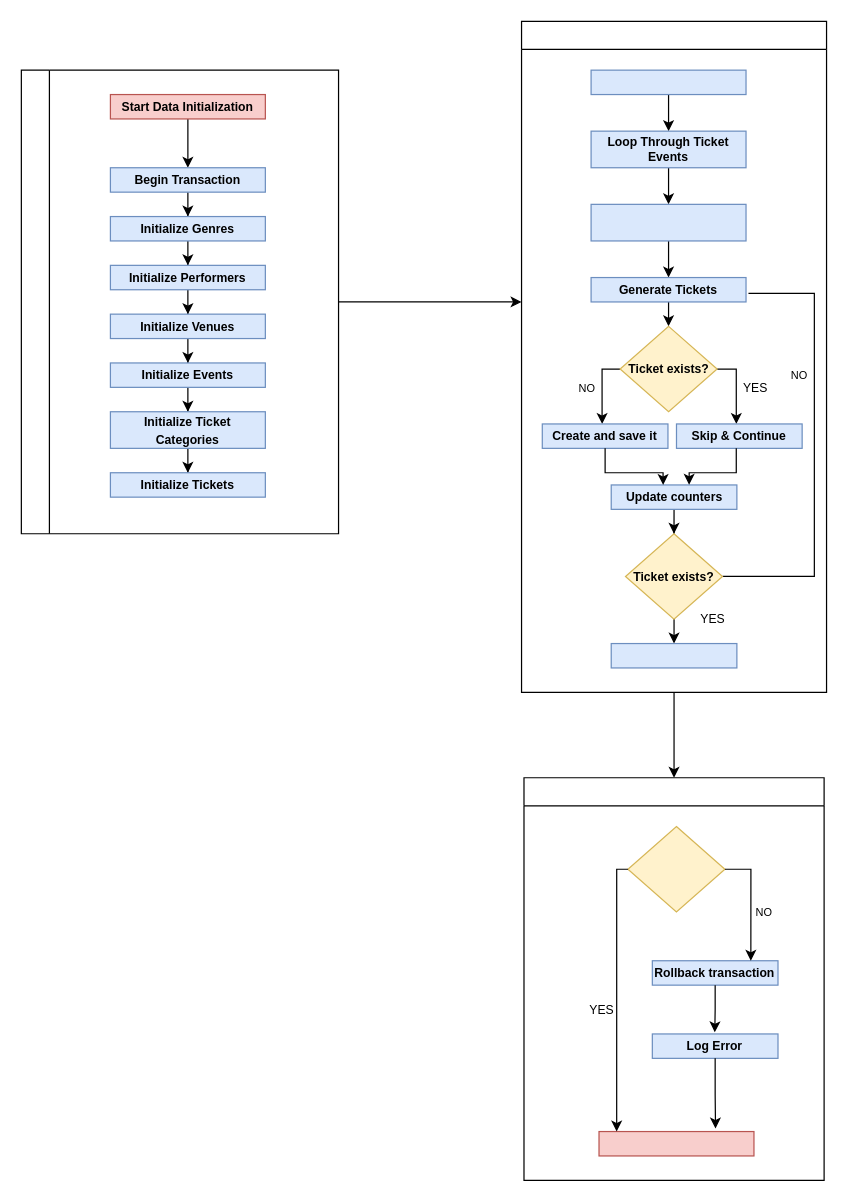
This 848x1202 diagram has some shape labels left out. The box of each missing label's shape, as (x1, y1, x2, y2) in pixels:
Commit Transaction: (610, 642, 737, 668)
Data initializer Process: (20, 69, 339, 534)
End Initialization: (598, 1130, 754, 1156)
Loop Through Events: (590, 69, 746, 95)
Seat row/Seat Counters: (590, 203, 746, 241)
Success?: (627, 825, 725, 912)
Transaction Management: (523, 777, 824, 1180)
Vertical Container: (520, 20, 827, 692)
